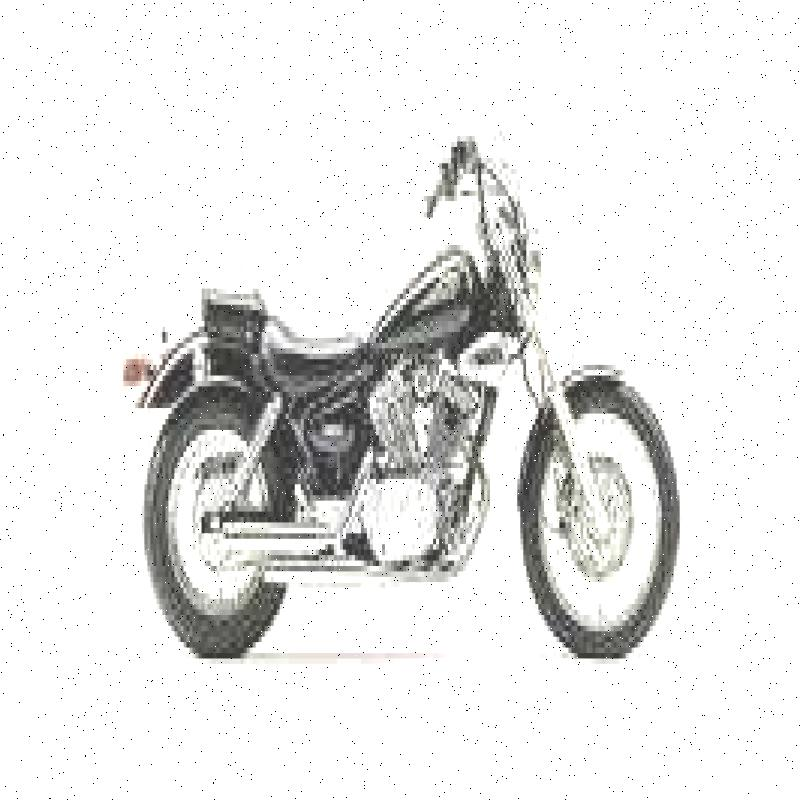bike: (107, 61, 714, 675)
